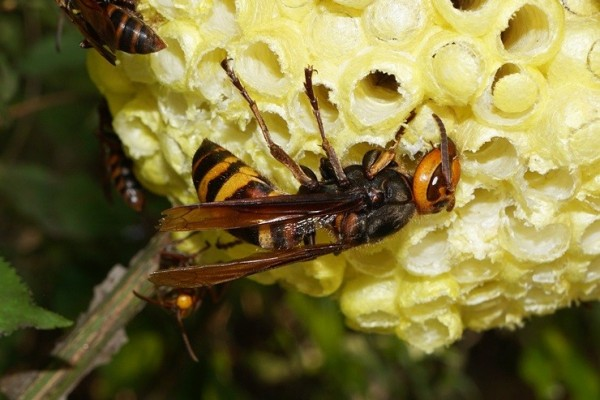asian_giant_hornet: (188, 134, 461, 261), (59, 1, 171, 67), (97, 97, 146, 214), (146, 269, 216, 314)
